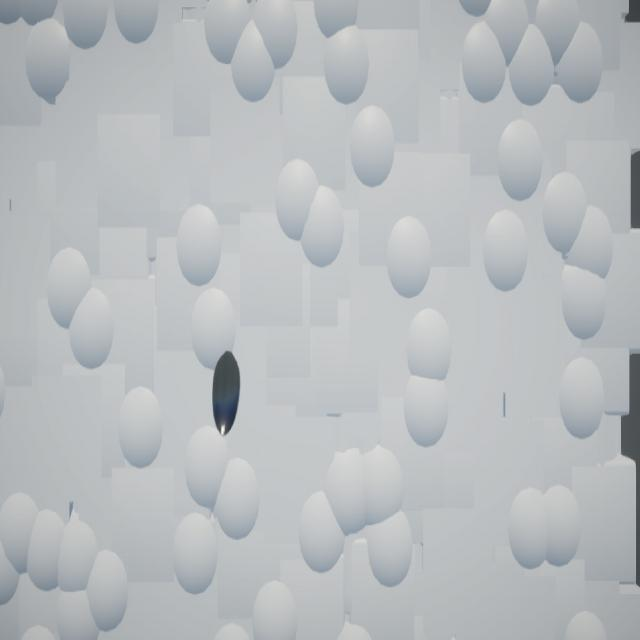top_spoon: (213, 351, 242, 437)
